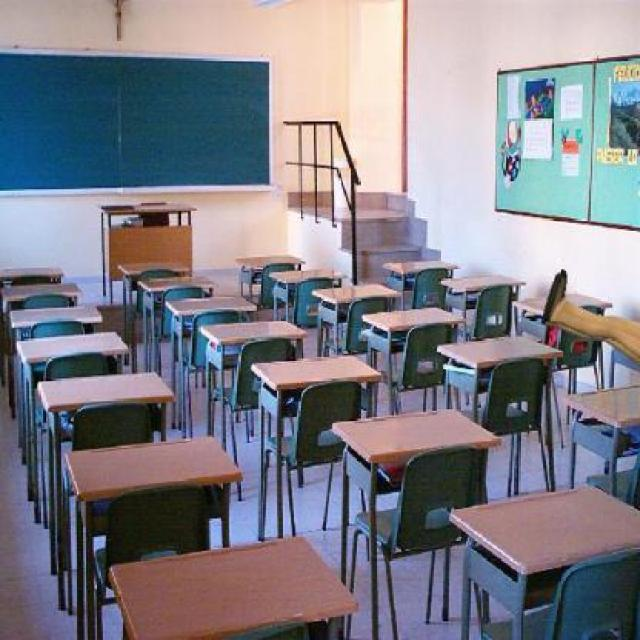Person: (540, 263, 638, 371)
